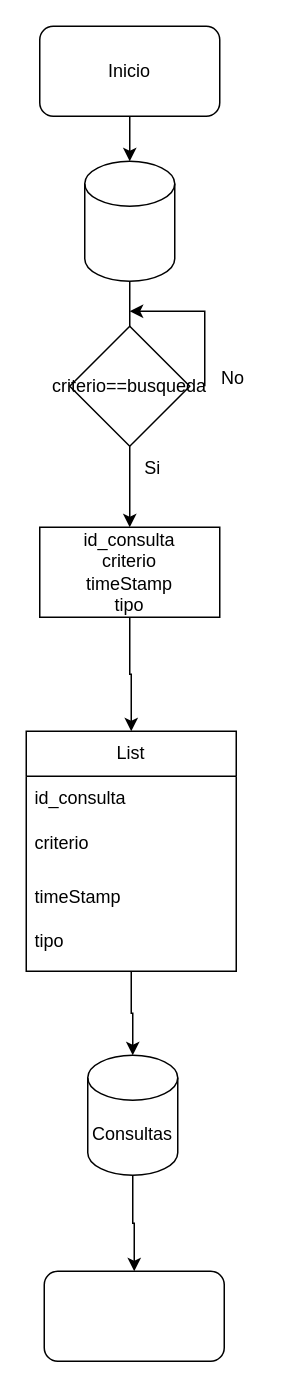
Image size: 305x1388. Some labels were removed from this diagram. Each missing label, with the centre of its shape:
"criterios_ busqueda" belongs at point (129, 220).
"Fin" belongs at point (133, 1315).
